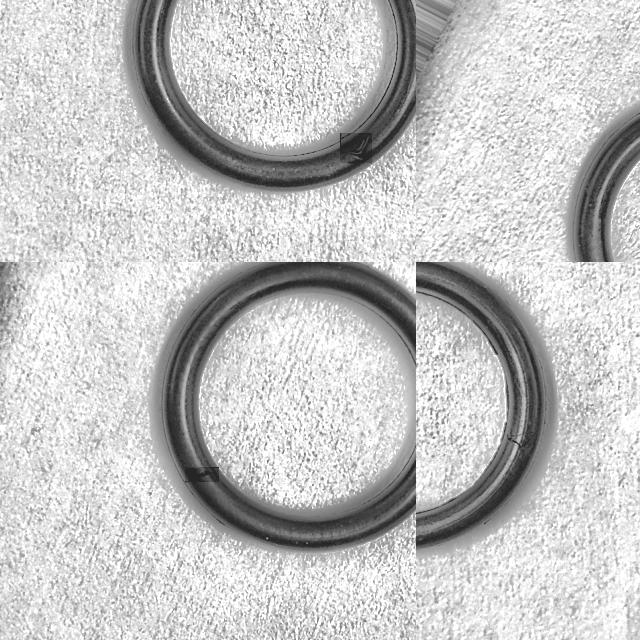切割缺陷: (340, 134, 372, 163), (506, 433, 532, 451), (186, 468, 219, 482)
裂纹: (416, 291, 498, 355), (479, 421, 507, 479), (416, 491, 466, 514), (504, 374, 510, 422)
